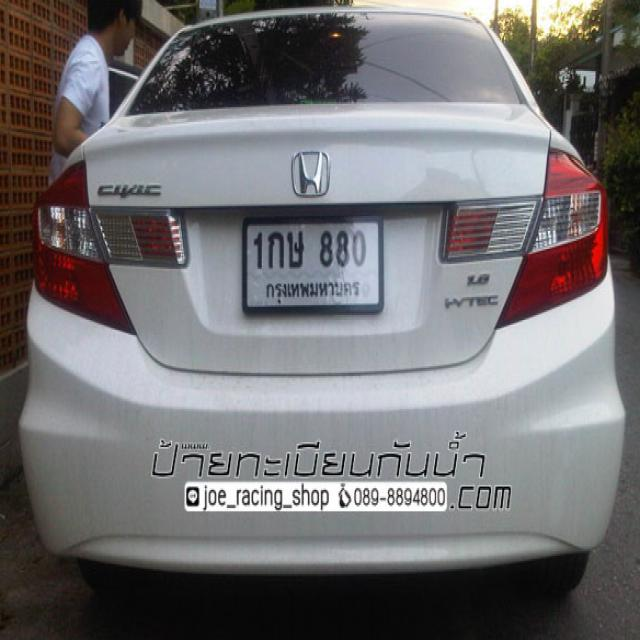license_plate: (239, 212, 386, 319)
